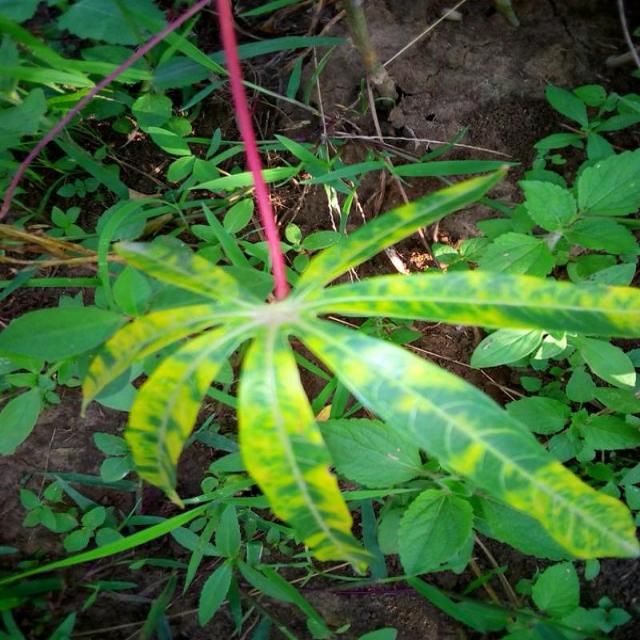cassava leaf: (80, 161, 639, 575), (292, 314, 639, 562)
